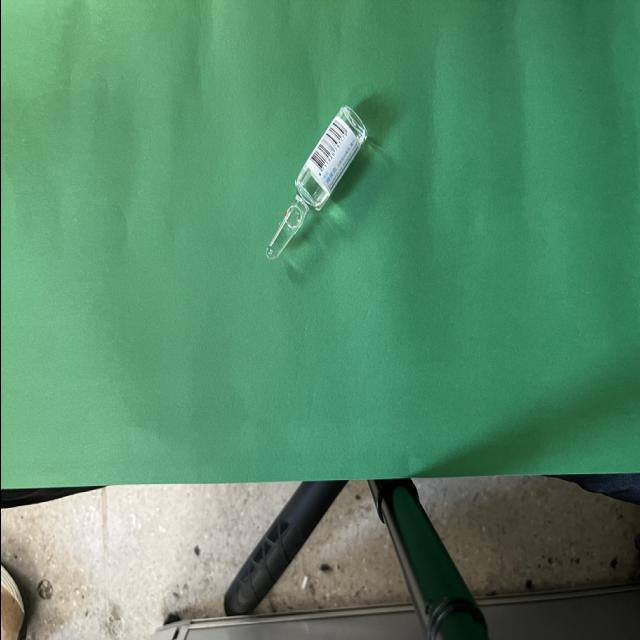Ampoules: (266, 105, 368, 259)
